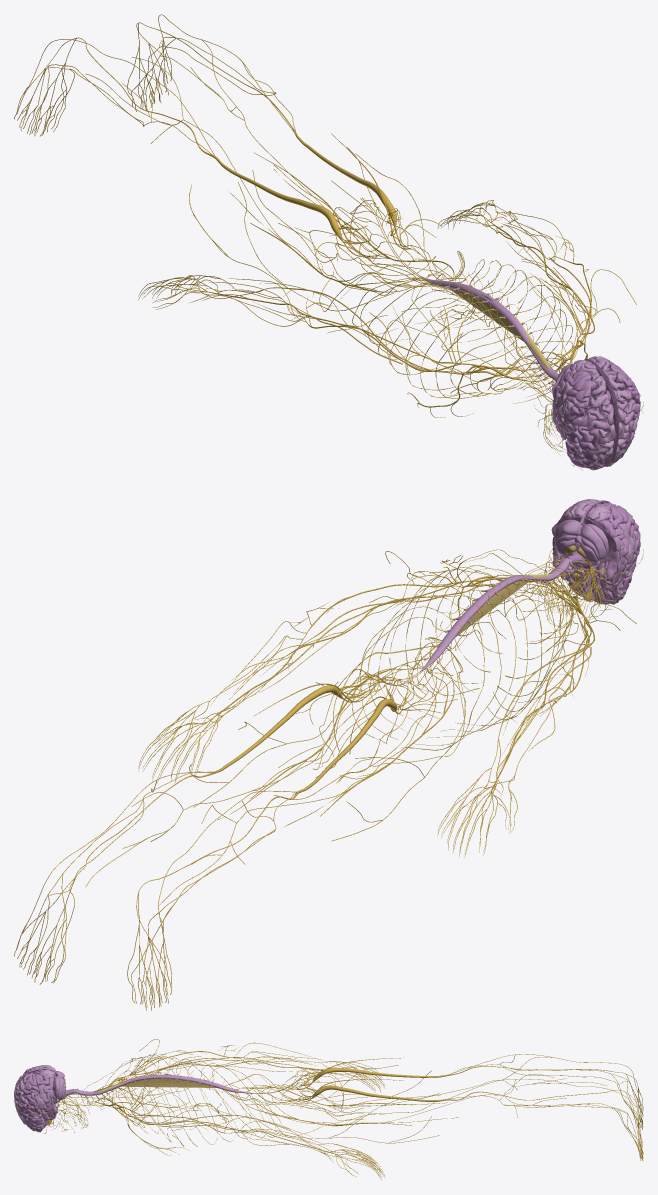
Rendered from nervous.glb.
3 views of the same model, one above another, from view 1: azimuth 30°, elevation 25°; view 2: azimuth 150°, elevation 25°; view 3: azimuth 270°, elevation 25° (orthographic). The views are drawn at different scales.
Parts seen in each view (by area): view 1: 右侧肋间神经, 左侧肋间神经, 脊髓硬膜, 脊髓白质, 右侧坐骨神经, 左侧坐骨神经; view 2: 右侧肋间神经, 左侧肋间神经, 脊髓硬膜, 左侧坐骨神经, 脊髓白质, 右侧坐骨神经; view 3: 脊髓硬膜, 右侧肋间神经, 脊髓白质, 左侧肋间神经, 左侧坐骨神经, 右侧坐骨神经, 右侧隐神经, 左侧隐神经, 左侧股外侧皮神经, 左侧股神经, 左侧正中神经, 左侧尺神经 (+6 smaller).
Part boxes in pixels (left/top/right/bottom): 右侧肋间神经: left=352, top=277, right=526, bottom=398; 左侧肋间神经: left=402, top=259, right=572, bottom=389; 脊髓硬膜: left=418, top=274, right=558, bottom=382; 脊髓白质: left=430, top=280, right=552, bottom=371; 右侧坐骨神经: left=215, top=157, right=376, bottom=257; 左侧坐骨神经: left=298, top=137, right=408, bottom=248; 右侧肋间神经: left=402, top=580, right=573, bottom=750; 左侧肋间神经: left=352, top=565, right=511, bottom=743; 脊髓硬膜: left=419, top=558, right=573, bottom=672; 左侧坐骨神经: left=216, top=682, right=377, bottom=772; 脊髓白质: left=428, top=574, right=553, bottom=664; 右侧坐骨神经: left=299, top=687, right=409, bottom=792; 脊髓硬膜: left=73, top=1074, right=251, bottom=1097; 右侧肋间神经: left=118, top=1057, right=281, bottom=1131; 脊髓白质: left=93, top=1074, right=238, bottom=1093; 左侧肋间神经: left=112, top=1079, right=280, bottom=1146; 左侧坐骨神经: left=283, top=1083, right=445, bottom=1102; 右侧坐骨神经: left=283, top=1068, right=445, bottom=1089; 右侧隐神经: left=328, top=1057, right=606, bottom=1108; 左侧隐神经: left=335, top=1074, right=605, bottom=1125; 左侧股外侧皮神经: left=246, top=1099, right=439, bottom=1143; 左侧股神经: left=237, top=1093, right=412, bottom=1125; 左侧正中神经: left=130, top=1110, right=335, bottom=1154; 左侧尺神经: left=126, top=1113, right=317, bottom=1144.
Size of the model in its own units: 0.9833 by 0.3574 by 2.5.
